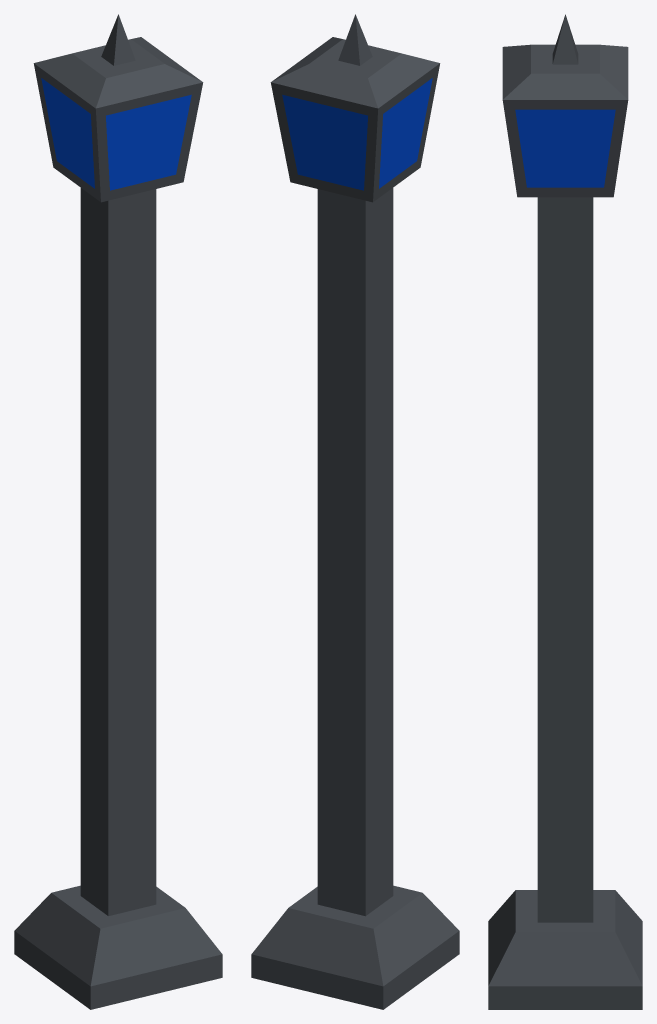
The model's file is LampPost.fbx.
3 views of the same model, side by side, from view 1: azimuth 30°, elevation 25°; view 2: azimuth 150°, elevation 25°; view 3: azimuth 270°, elevation 25° (orthographic).
Parts seen in each view (by area): view 1: LampPost; view 2: LampPost; view 3: LampPost.
Part boxes in pixels (<box>): LampPost: <box>14,14,222,1009</box>; LampPost: <box>251,14,459,1009</box>; LampPost: <box>488,14,642,1009</box>.
Size of the model in its own units: 48.01 by 331 by 48.01.
